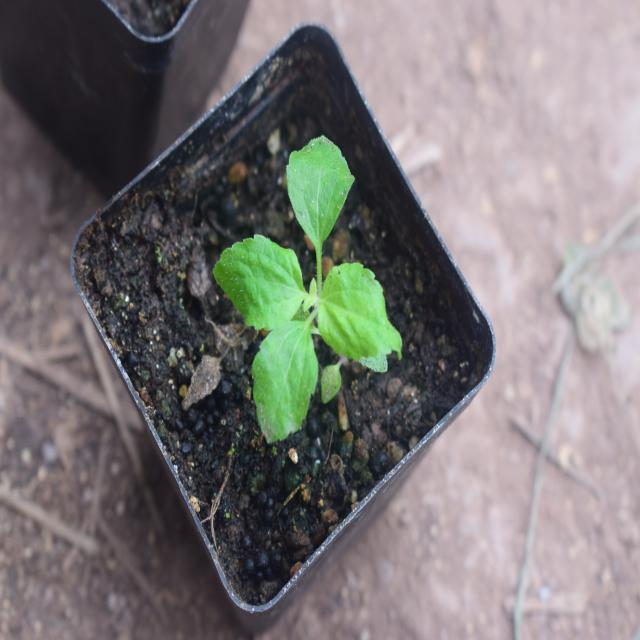billygoat_weed: (212, 124, 388, 426)
